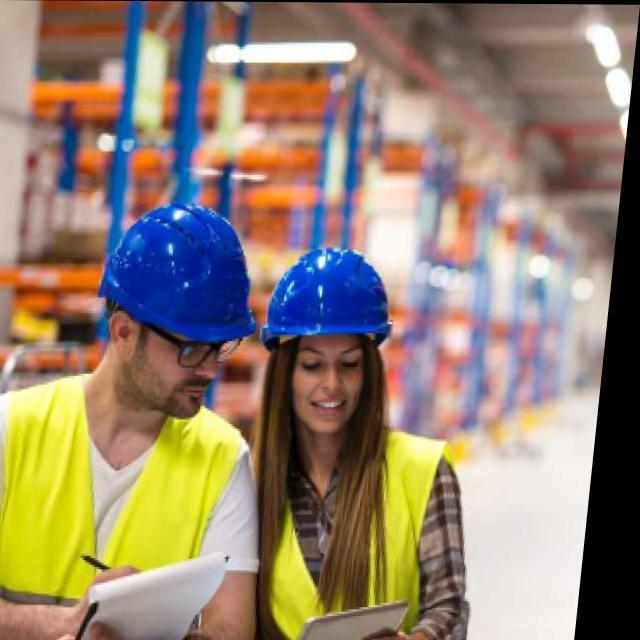hard_hat: (80, 196, 273, 418), (246, 241, 405, 427)
vest: (0, 366, 255, 639), (216, 411, 460, 640)
